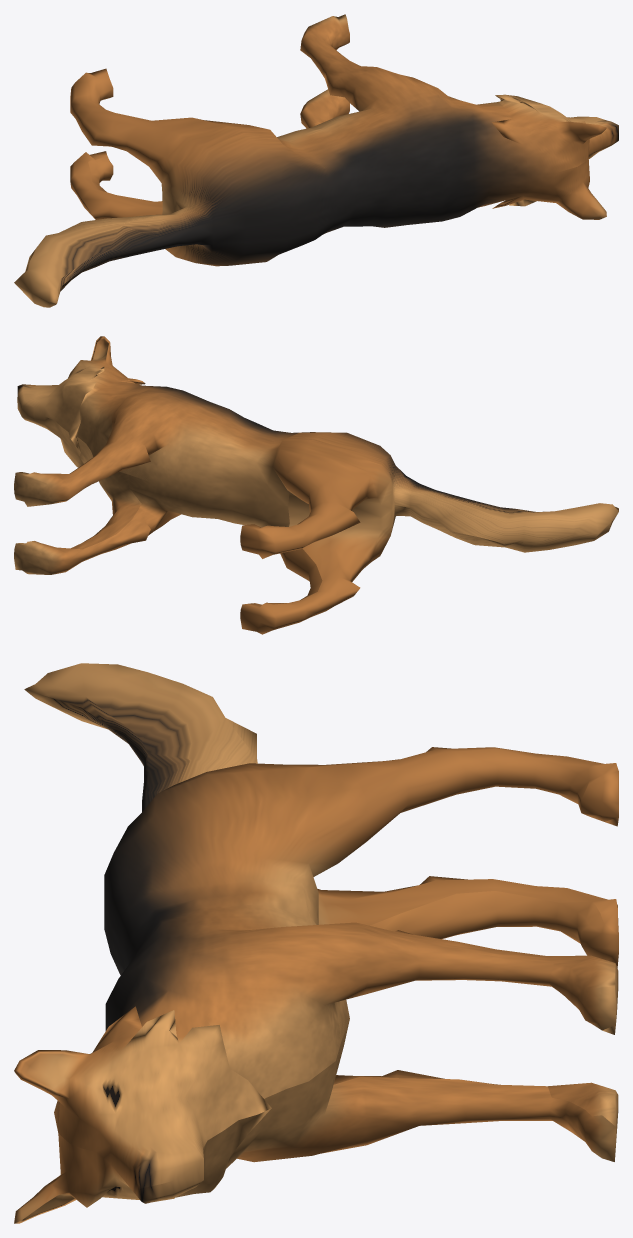
The model's file is dog_shepherd.obj.
3 views of the same model, one above another, from view 1: azimuth 30°, elevation 25°; view 2: azimuth 150°, elevation 25°; view 3: azimuth 270°, elevation 25° (orthographic). The views are drawn at different scales.
Visible parts, largest first — view 1: dog_shepherd; view 2: dog_shepherd; view 3: dog_shepherd.
Boxes of the visible parts, x1,y1,x2,y2 form: dog_shepherd: [14, 14, 618, 307]; dog_shepherd: [14, 336, 618, 634]; dog_shepherd: [14, 663, 618, 1223].
Bounding box in the file's own units: 1.47 × 0.2919 × 0.7412.
1 material, 1 textured.
